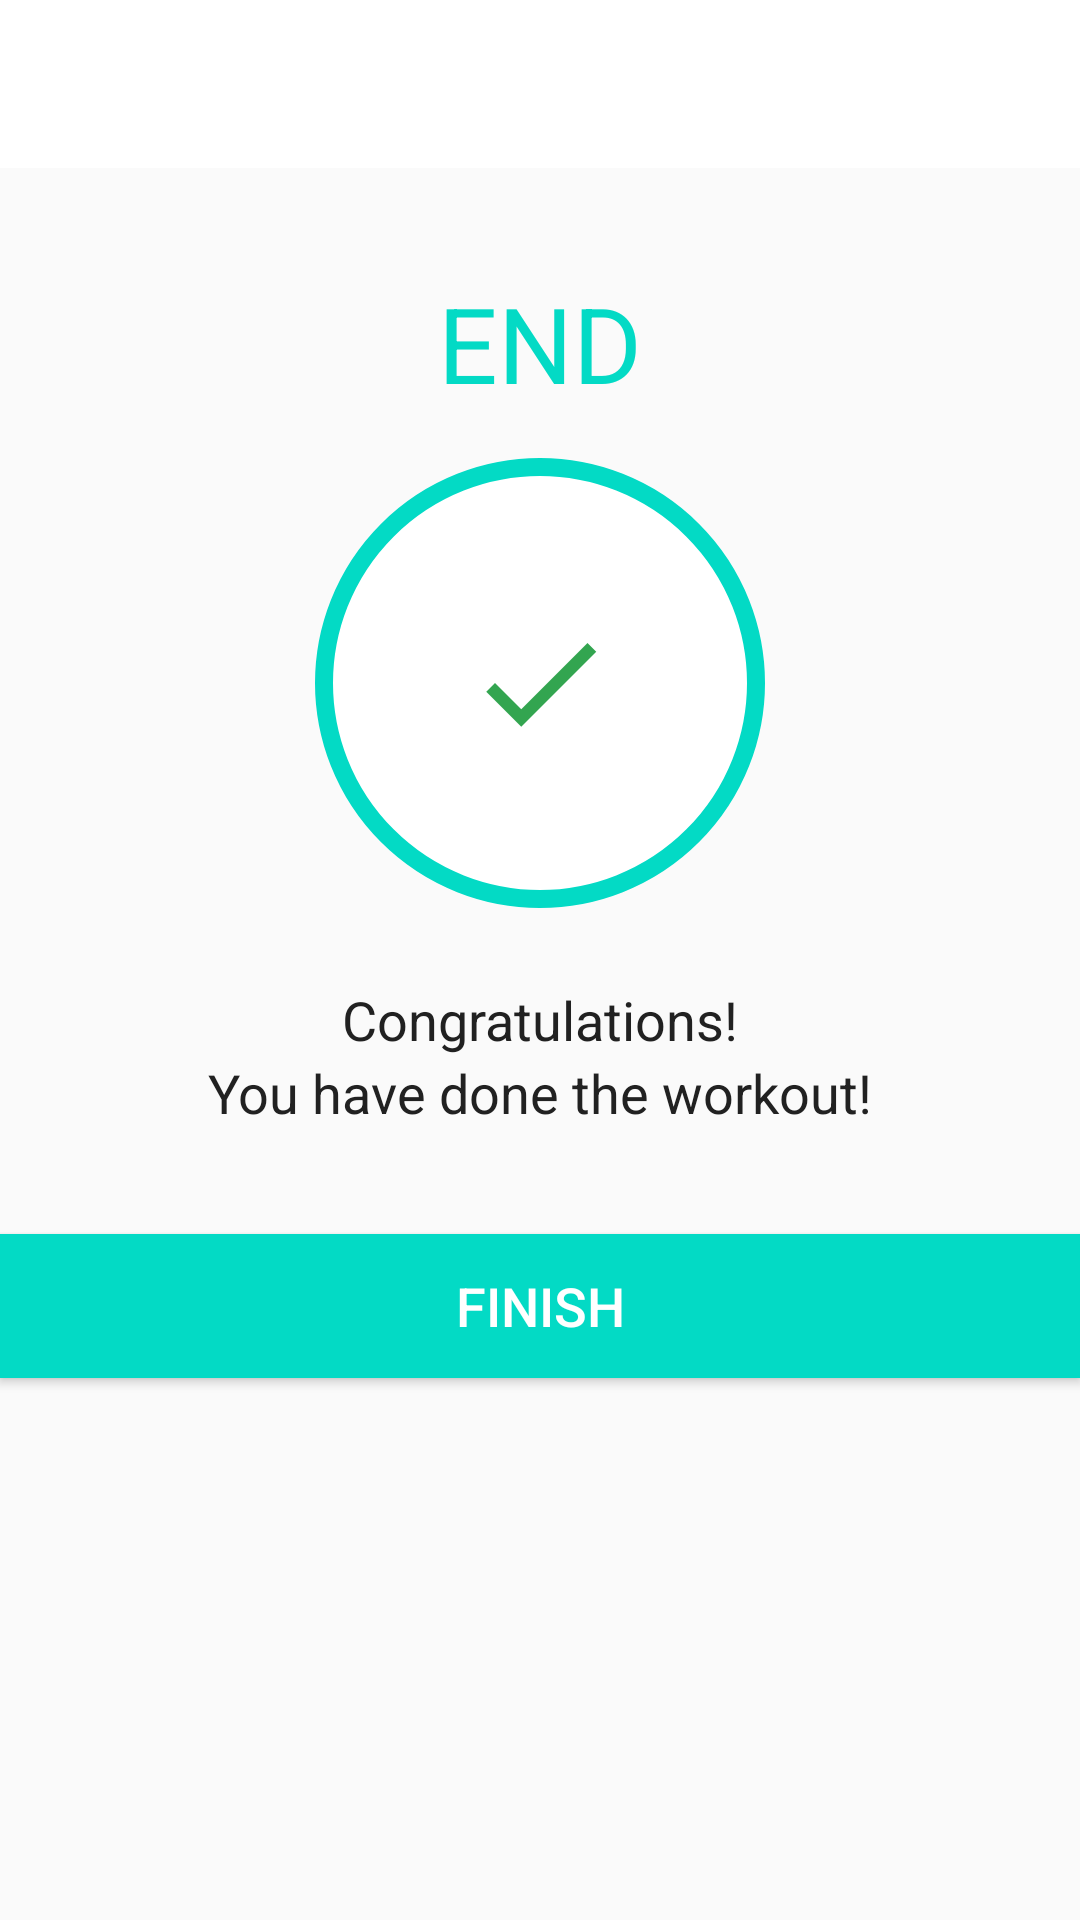

Named icons in this screenshot (1080 x 1920) and their centers, (x=x, y=y):
done: (x=541, y=685)
